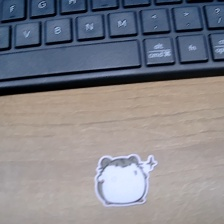mouse: (95, 152, 159, 210)
